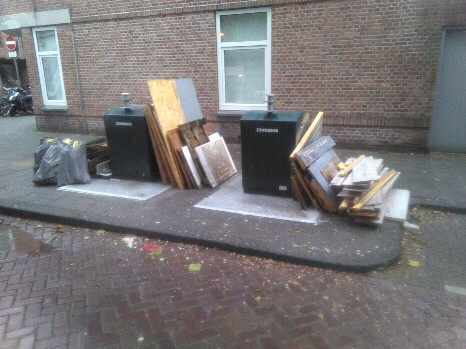Container: (234, 108, 293, 196), (104, 94, 152, 178)
Rest: (304, 115, 385, 216), (158, 74, 227, 181), (40, 139, 72, 185), (77, 140, 108, 186)
